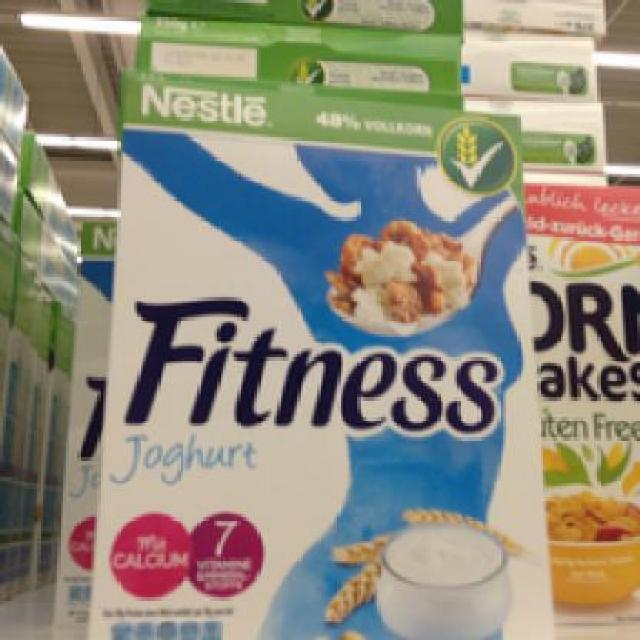Cereal: (94, 71, 552, 628)
